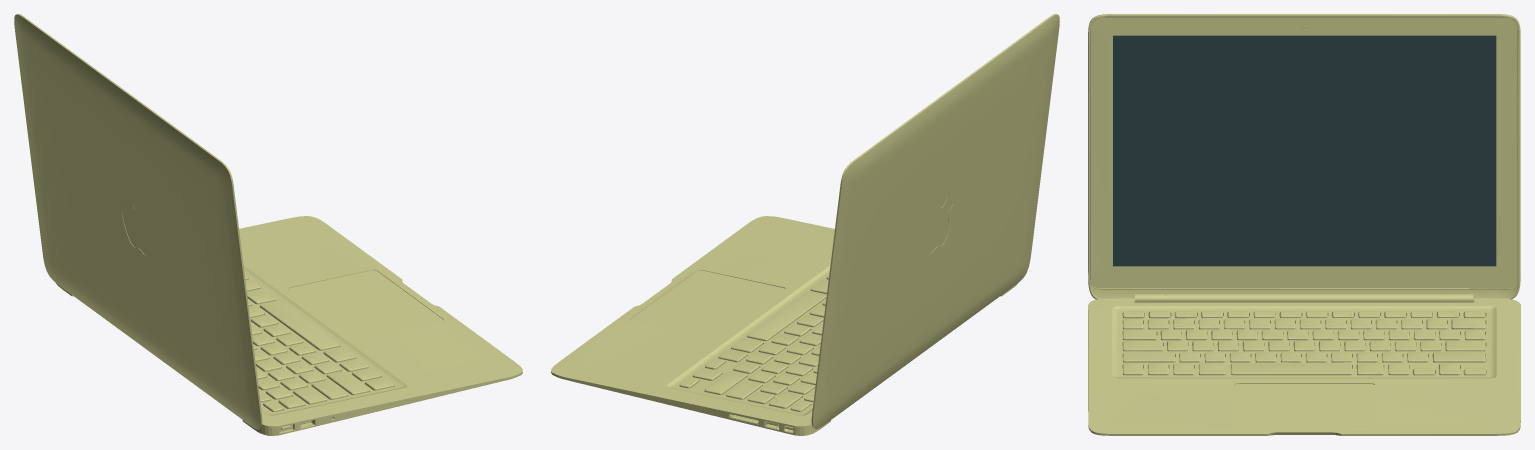
The model's file is MAC.fbx.
The picture shows the model from 3 angles, left to right: view 1: azimuth 30°, elevation 25°; view 2: azimuth 150°, elevation 25°; view 3: azimuth 270°, elevation 25°; orthographic projection.
Visible parts, largest first — view 1: mac 2018 mac 2018 [938283]; view 2: mac 2018 mac 2018 [938283]; view 3: mac 2018 mac 2018 [938283].
Boxes of the visible parts, x1,y1,x2,y2 form: mac 2018 mac 2018 [938283]: [14, 14, 522, 435]; mac 2018 mac 2018 [938283]: [551, 14, 1059, 435]; mac 2018 mac 2018 [938283]: [1088, 14, 1520, 435].
Size of the model in its own units: 25.83 by 23.35 by 32.46.
